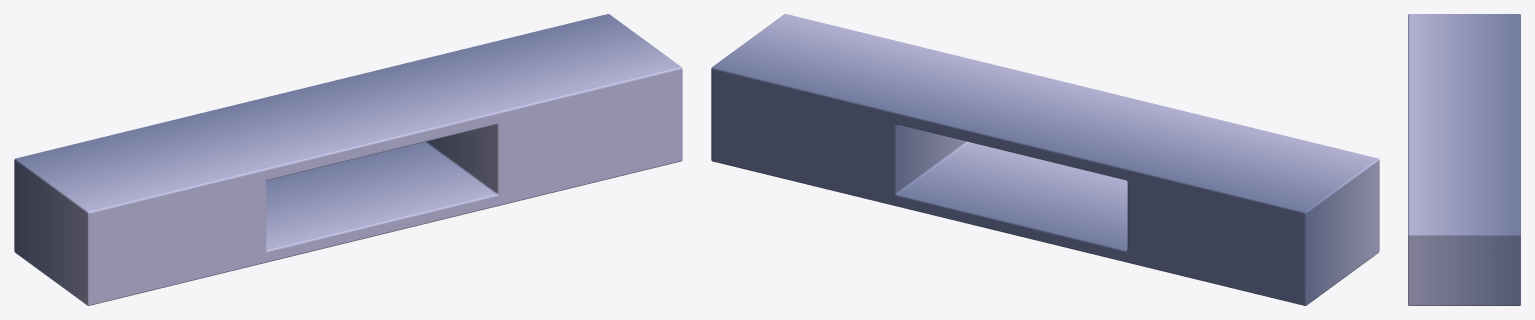
Rendered from PLATEFORME.fbx.
3 renders of one model, left to right at view 1: azimuth 30°, elevation 25°; view 2: azimuth 150°, elevation 25°; view 3: azimuth 270°, elevation 25°, orthographic. The views are drawn at different scales.
Parts seen in each view (by area): view 1: PLATEFORME; view 2: PLATEFORME; view 3: PLATEFORME.
Part boxes in pixels (x1,y1,x2,y2): PLATEFORME: (14,14,682,305); PLATEFORME: (711,14,1379,305); PLATEFORME: (1408,14,1520,305).
Size of the model in its own units: 4498 by 681 by 970.
